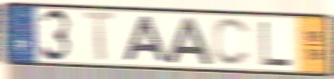3: (38, 8, 79, 64)
A: (121, 14, 172, 64), (164, 15, 214, 65)
C: (211, 17, 253, 68)
L: (258, 20, 293, 69)
T: (81, 10, 121, 64)
